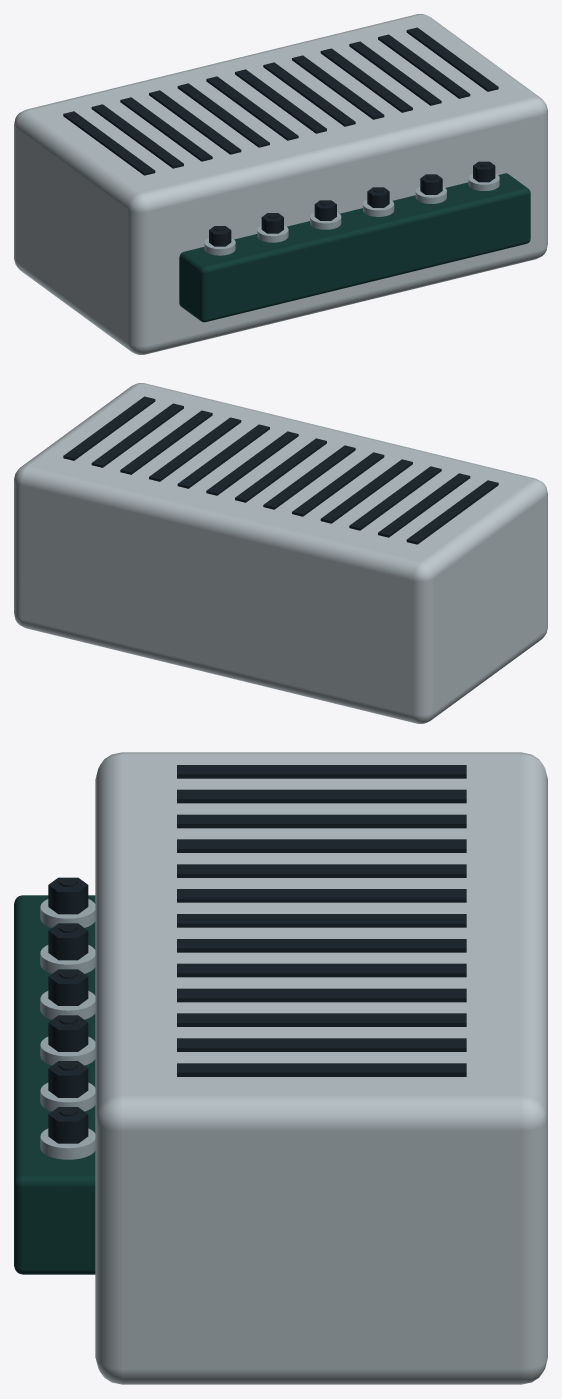
The model's file is supply.glb.
3 views of the same model, one above another, from view 1: azimuth 30°, elevation 25°; view 2: azimuth 150°, elevation 25°; view 3: azimuth 270°, elevation 25° (orthographic). The views are drawn at different scales.
Parts seen in each view (by area): view 1: satin-aluminium, pcb-solder-mask, black-anodised, stainless-steel; view 2: satin-aluminium, black-anodised; view 3: satin-aluminium, black-anodised, pcb-solder-mask, stainless-steel, matte-polymer.
Boxes of the visible parts, bbox=[...] form: satin-aluminium: bbox=[14, 14, 547, 354]; pcb-solder-mask: bbox=[179, 173, 530, 322]; black-anodised: bbox=[63, 27, 498, 246]; stainless-steel: bbox=[204, 173, 499, 255]; satin-aluminium: bbox=[14, 383, 547, 723]; black-anodised: bbox=[63, 396, 498, 544]; satin-aluminium: bbox=[95, 752, 547, 1384]; black-anodised: bbox=[48, 765, 466, 1143]; pcb-solder-mask: bbox=[14, 895, 95, 1274]; stainless-steel: bbox=[40, 899, 95, 1159]; matte-polymer: bbox=[58, 878, 77, 1116].
Bounding box in the file's own units: 0.95 × 0.3575 × 0.59.
